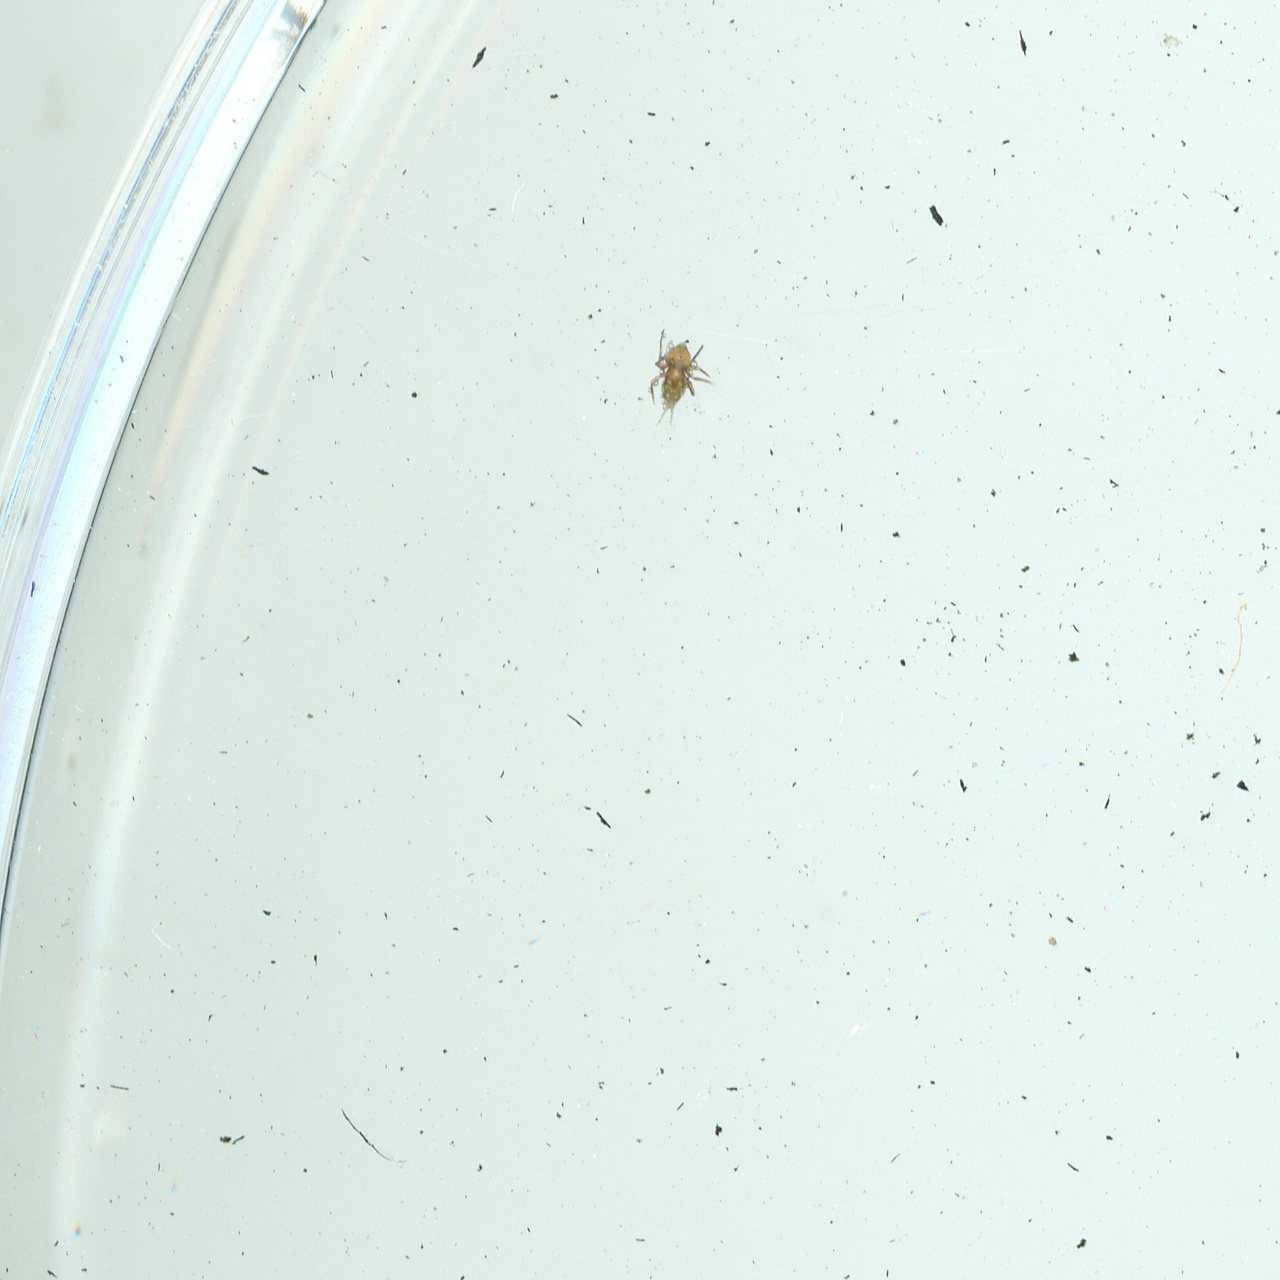arthropod: (640, 325, 719, 433)
